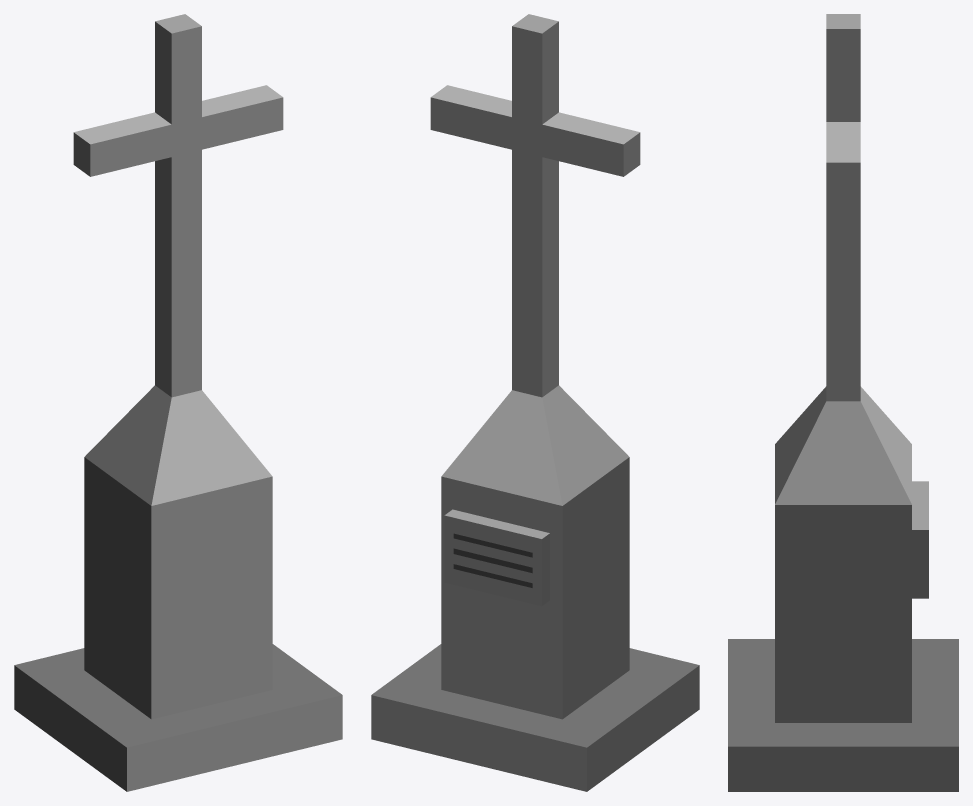
Rendered from grave_large_mesh.fbx.
3 renders of one model, left to right at view 1: azimuth 30°, elevation 25°; view 2: azimuth 150°, elevation 25°; view 3: azimuth 270°, elevation 25°, orthographic. The views are drawn at different scales.
Parts seen in each view (by area): view 1: grave_large_mesh; view 2: grave_large_mesh; view 3: grave_large_mesh.
Part boxes in pixels (x1,y1,x2,y2): grave_large_mesh: (14,14,342,791); grave_large_mesh: (371,14,699,791); grave_large_mesh: (728,14,958,791).
Size of the model in its own units: 1.2 by 3.72 by 1.08.
